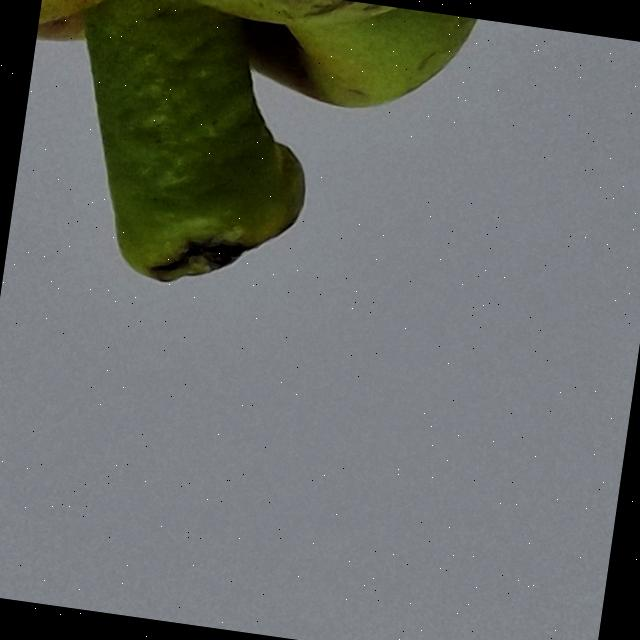mangosteen: (1, 0, 640, 379)
